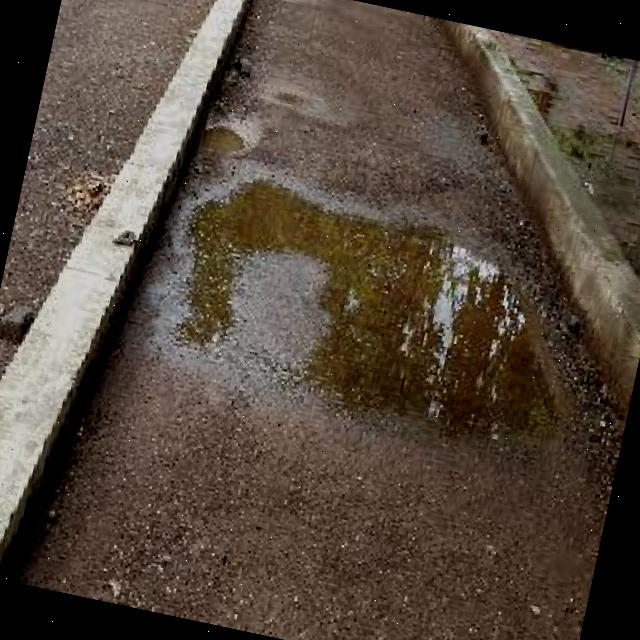waterlogging: (142, 162, 589, 484), (190, 100, 268, 171)
